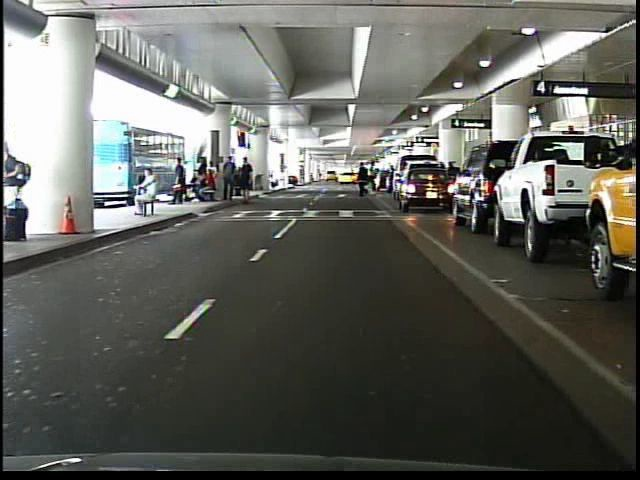person: (125, 167, 162, 221), (167, 156, 188, 209), (355, 159, 374, 204), (363, 160, 380, 197)
